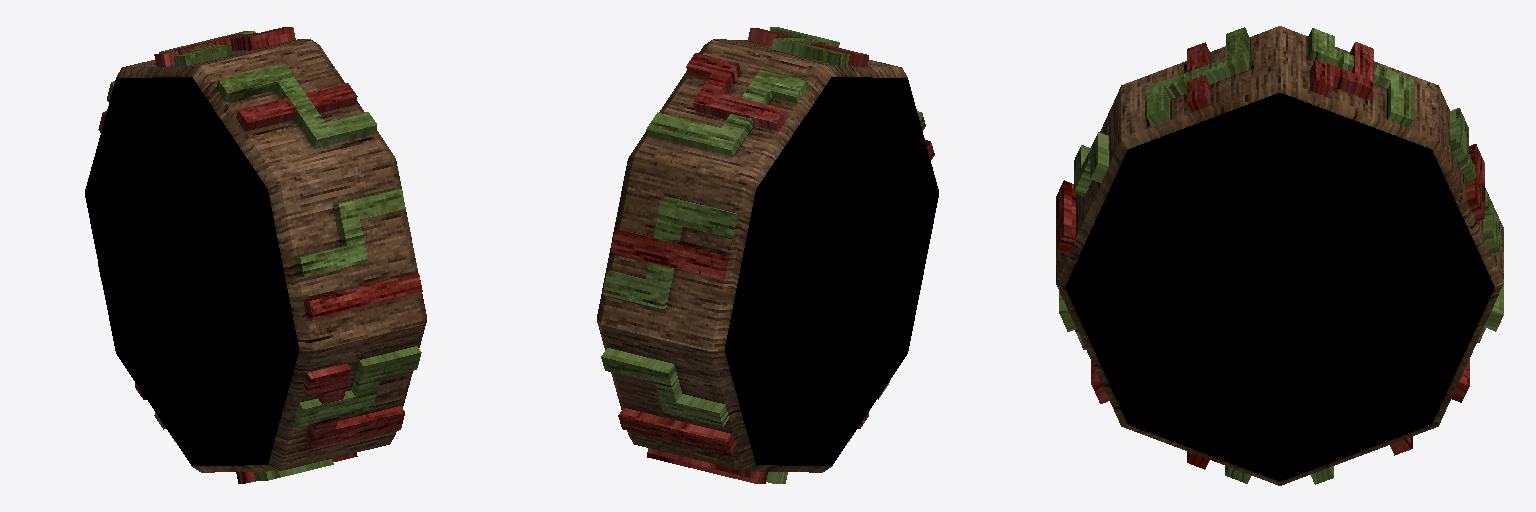
The picture shows the model from 3 angles: view 1: azimuth 30°, elevation 25°; view 2: azimuth 150°, elevation 25°; view 3: azimuth 270°, elevation 25°; orthographic projection.
Visible parts, largest first — view 1: Codex_part2; view 2: Codex_part2; view 3: Codex_part2.
Boxes of the visible parts, x1=… form: Codex_part2: x1=85, y1=27, x2=426, y2=483; Codex_part2: x1=597, y1=27, x2=938, y2=483; Codex_part2: x1=1056, y1=26, x2=1503, y2=485.
Bounding box in the file's own units: 22.19 × 67.37 × 67.37.
Materials: 3 (3 with a texture image).